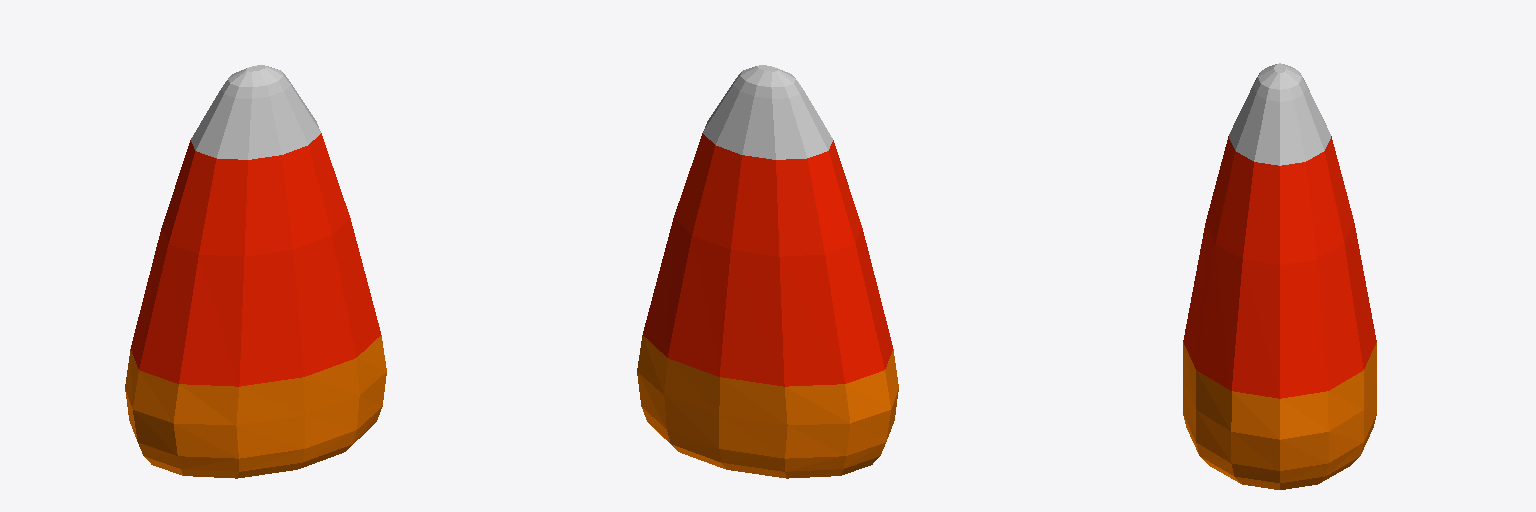
The model's file is candyCorn.obj.
3 renders of one model, left to right at view 1: azimuth 30°, elevation 25°; view 2: azimuth 150°, elevation 25°; view 3: azimuth 270°, elevation 25°, orthographic.
Parts seen in each view (by area): view 1: candyCorn_Cube.002; view 2: candyCorn_Cube.002; view 3: candyCorn_Cube.002.
Part boxes in pixels (x1,y1,x2,y2): candyCorn_Cube.002: (125,65,386,478); candyCorn_Cube.002: (637,65,898,478); candyCorn_Cube.002: (1183,63,1376,489).
Bounding box in the file's own units: 0.5999 × 0.8726 × 0.4091.